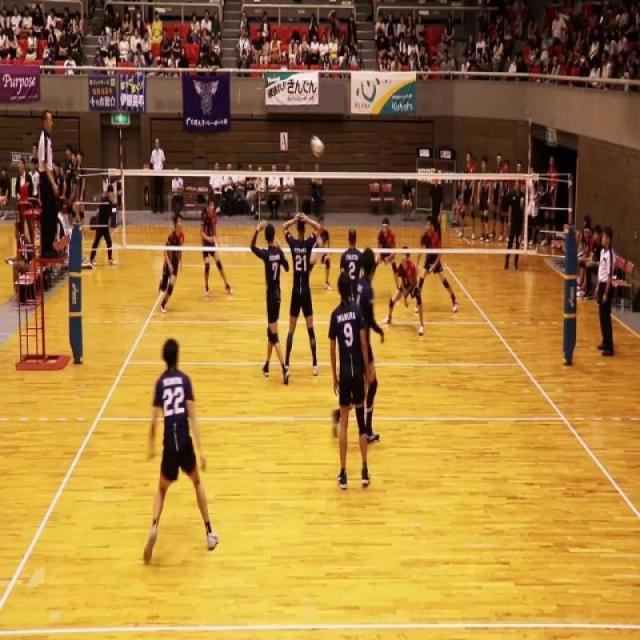volleyball: (310, 133, 325, 159)
